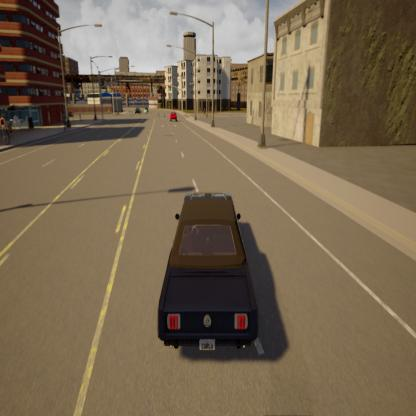Cars: (148, 163, 262, 370), (168, 108, 178, 126), (133, 105, 141, 116), (142, 107, 147, 114)
Pedestrian: (0, 107, 9, 151), (156, 107, 160, 121), (164, 108, 166, 121)
